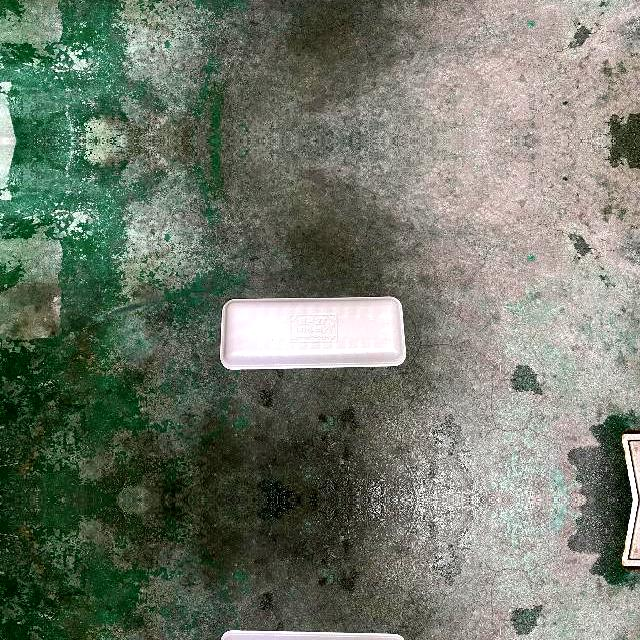Styrofoam: (220, 296, 406, 369), (220, 296, 408, 368)
